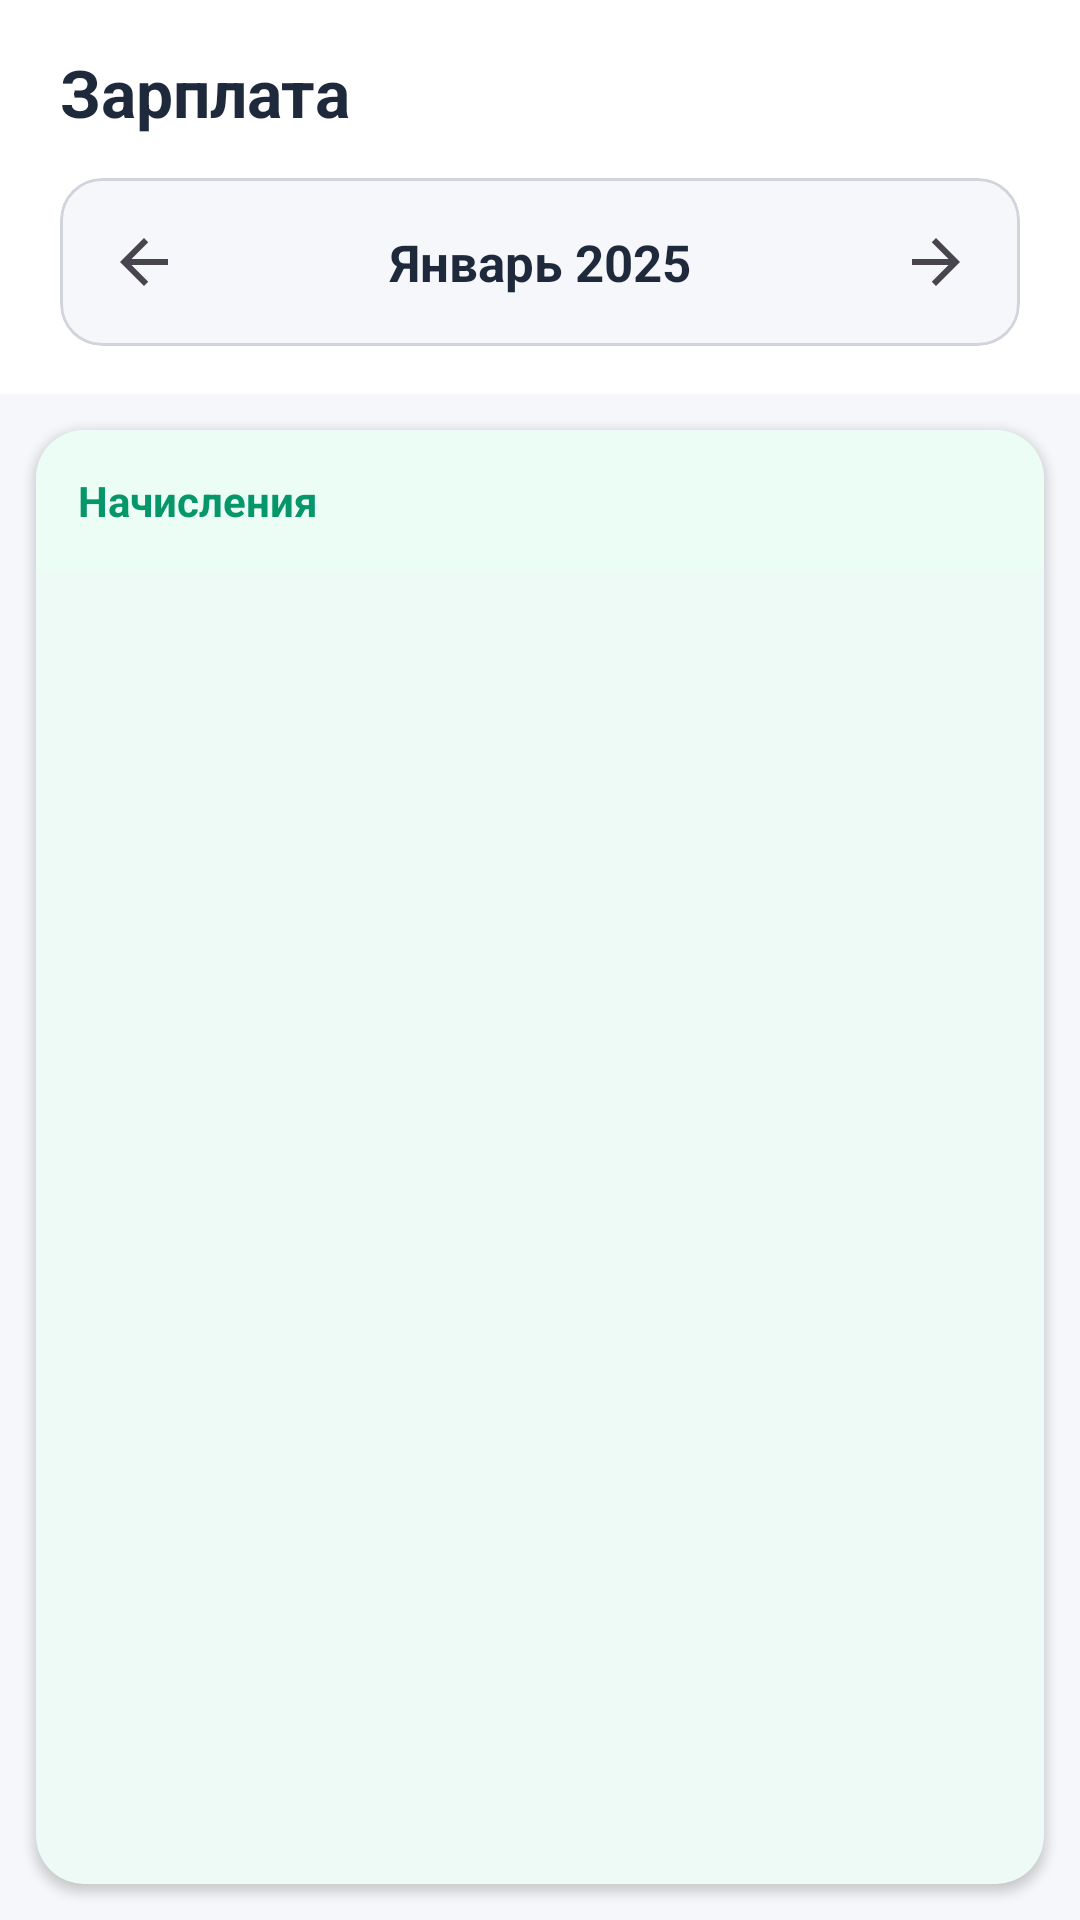

Icon bounding boxes for this 1080×1920 phone screenshot, format Rect(x1, y1, x2, y2):
Предыдущий месяц: Rect(120, 238, 168, 286)
Следующий месяц: Rect(912, 238, 960, 286)
